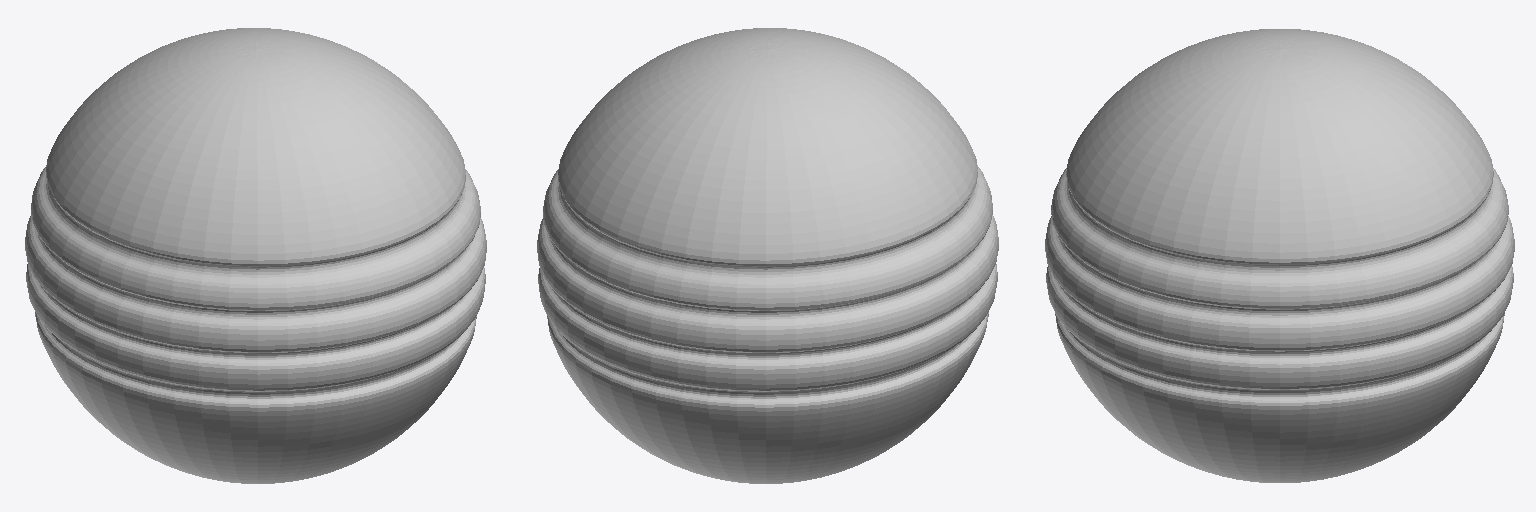
Rendered from headback.obj.
3 views of the same model, side by side, from view 1: azimuth 30°, elevation 25°; view 2: azimuth 150°, elevation 25°; view 3: azimuth 270°, elevation 25° (orthographic).
Parts seen in each view (by area): view 1: head:MeshpolySurface37; view 2: head:MeshpolySurface37; view 3: head:MeshpolySurface37.
Boxes of the visible parts, box(x1,y1,x2,y2) form: head:MeshpolySurface37: box(25, 28, 486, 483); head:MeshpolySurface37: box(537, 28, 998, 483); head:MeshpolySurface37: box(1045, 29, 1514, 482).
Bounding box in the file's own units: 0.3163 × 0.3126 × 0.3237.